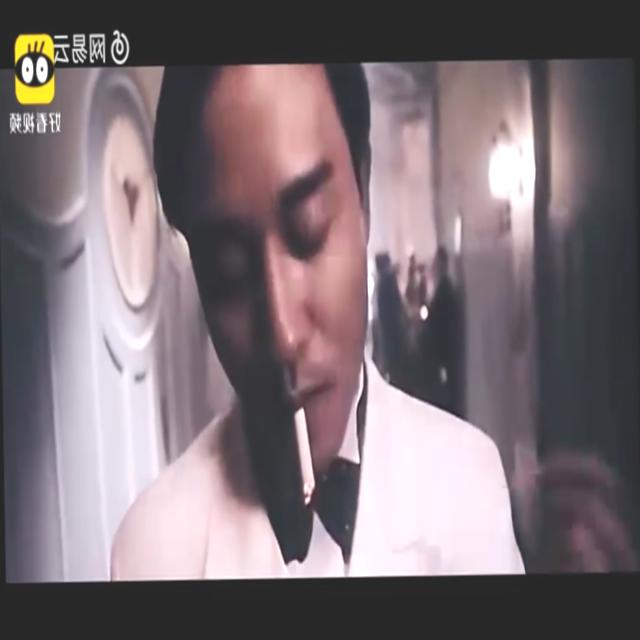smoke: (291, 410, 326, 503)
